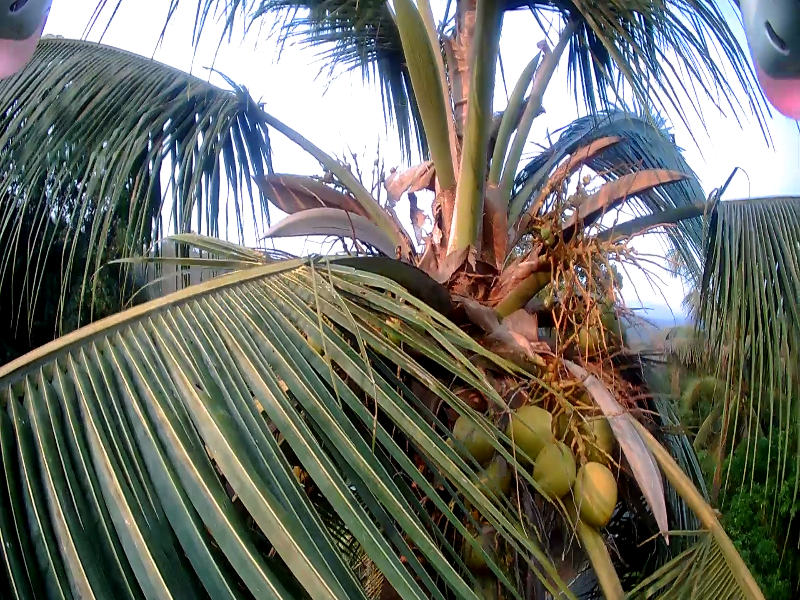coconut: (504, 400, 548, 447), (450, 409, 491, 457), (535, 441, 570, 497), (573, 464, 611, 514), (581, 404, 618, 455), (474, 530, 509, 567), (478, 463, 507, 496), (589, 302, 618, 332)
